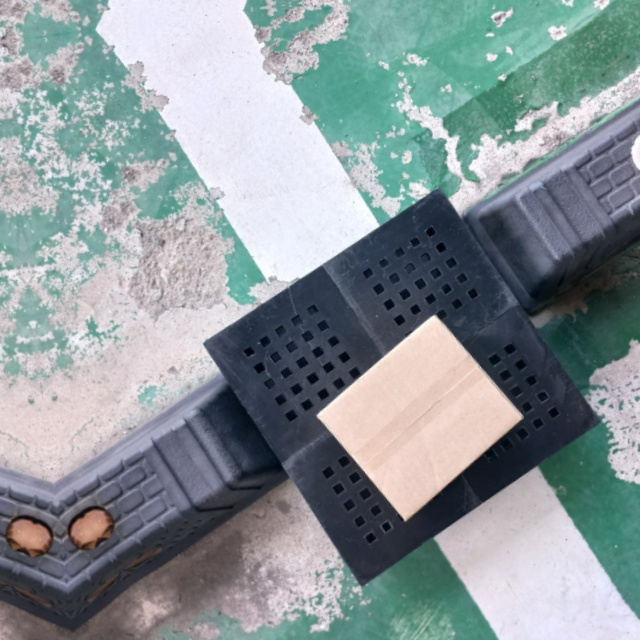box: (311, 307, 527, 534)
pallet: (185, 163, 629, 594)
